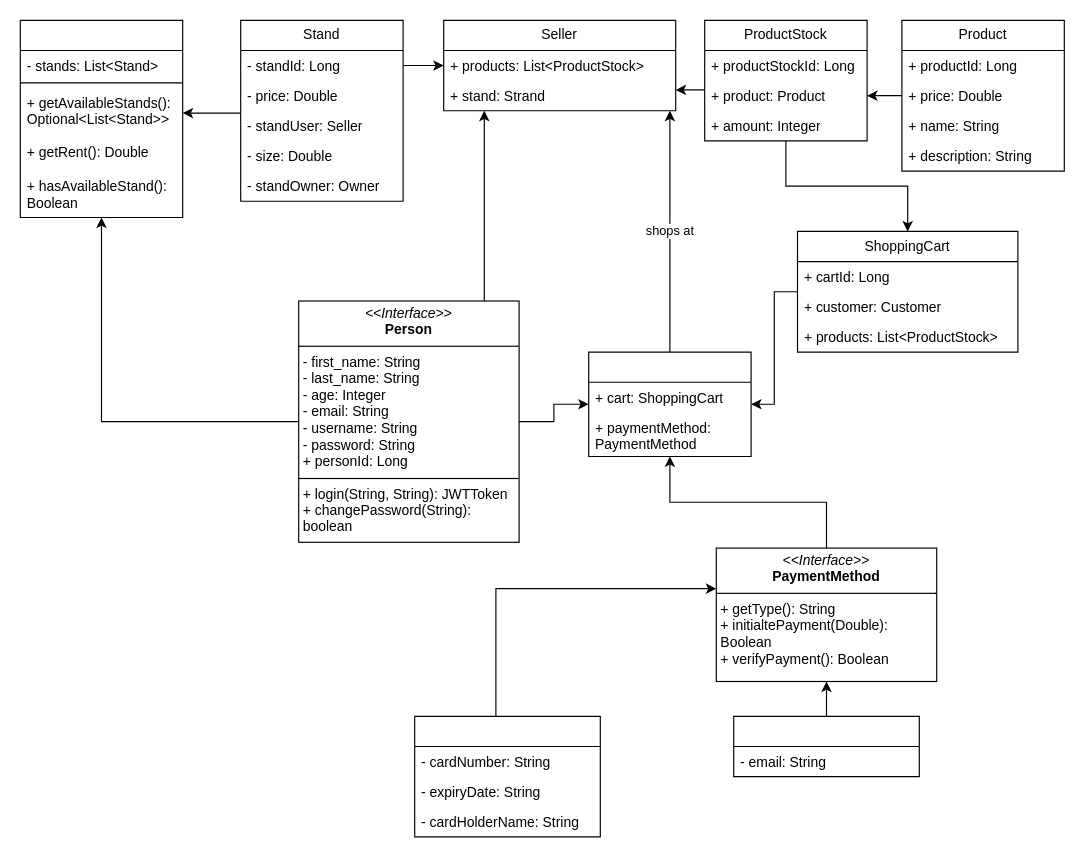
Some shapes in this 1085 by 861 pixel diagram are drawn without their labels. The box of each missing label's shape, as (x1, y1, x2, y2) in pixels:
CreditCardPayment: (414, 715, 600, 837)
Customer: (588, 351, 751, 456)
Owner: (19, 19, 183, 217)
PayPalPayment: (733, 715, 919, 777)
